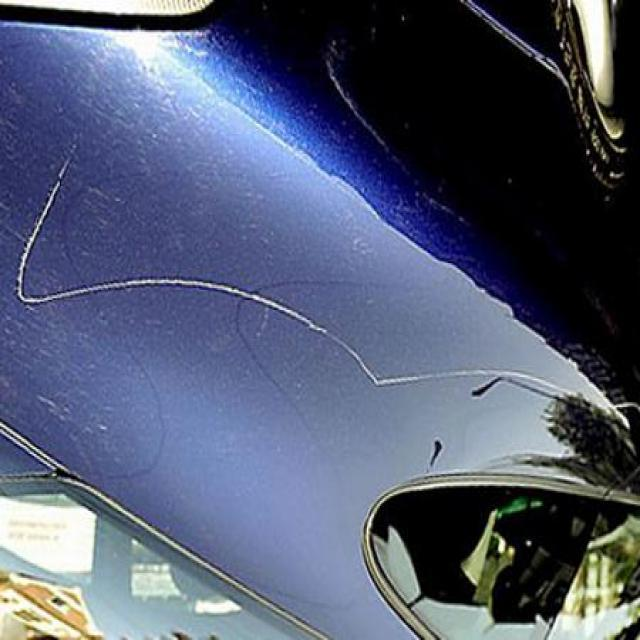scratch: (90, 264, 378, 396), (2, 127, 82, 322), (388, 361, 629, 412)
